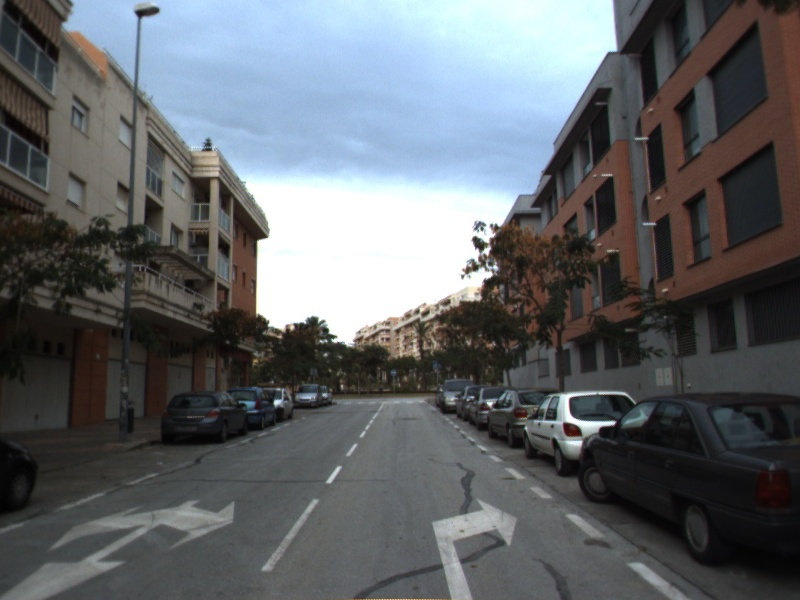RIGHT: (429, 494, 520, 600)
